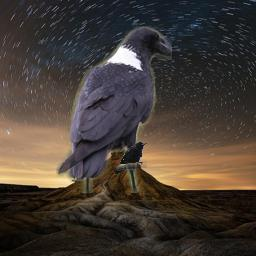Crow: (56, 26, 172, 193), (114, 142, 147, 174)
